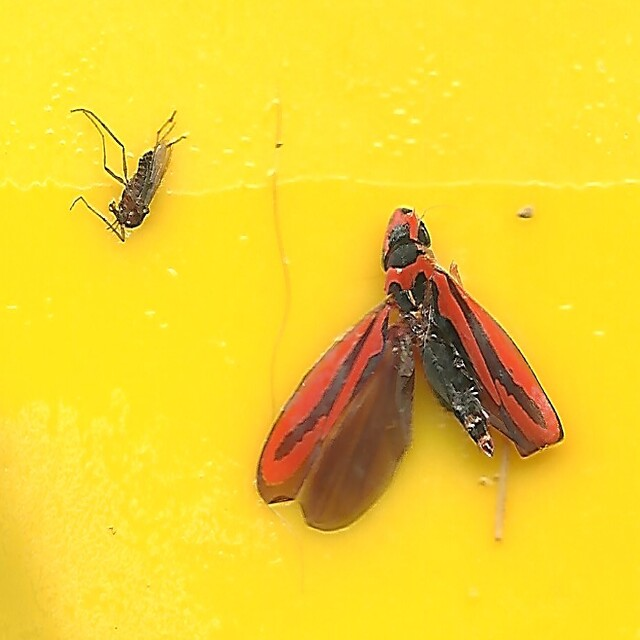Hemiptera: (251, 199, 570, 537)
Nematocera: (70, 103, 194, 245)
